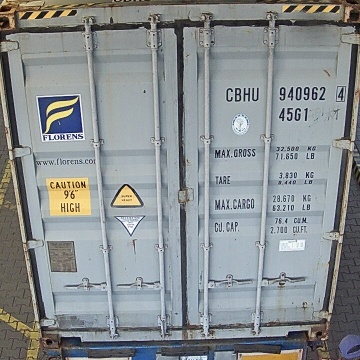serial_id: (226, 86, 346, 101)
